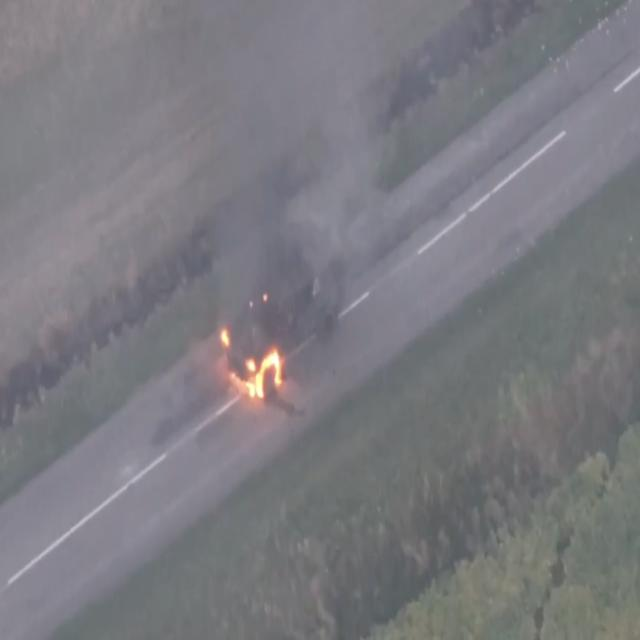vehicle: (222, 243, 344, 399)
